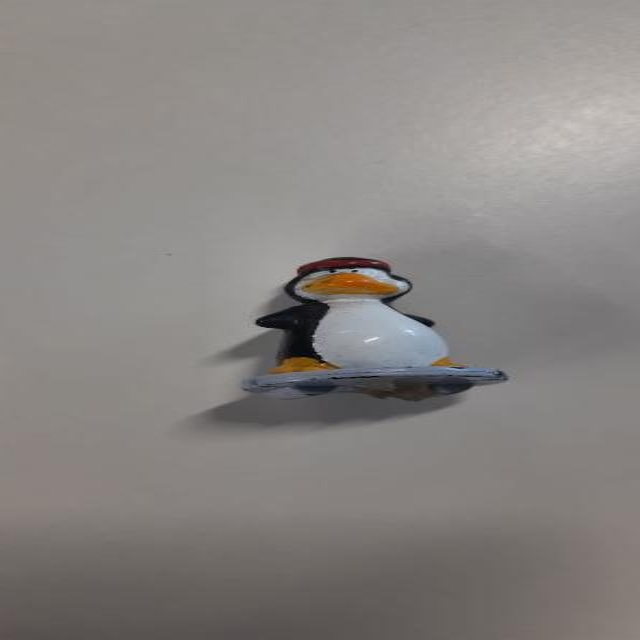Penguin: (241, 251, 497, 401)
